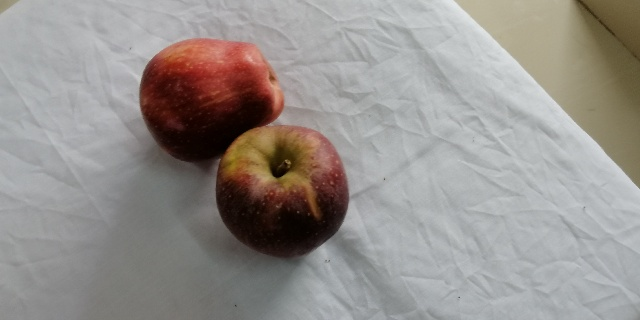apple_kashmir: (139, 37, 286, 166), (216, 129, 361, 259)
